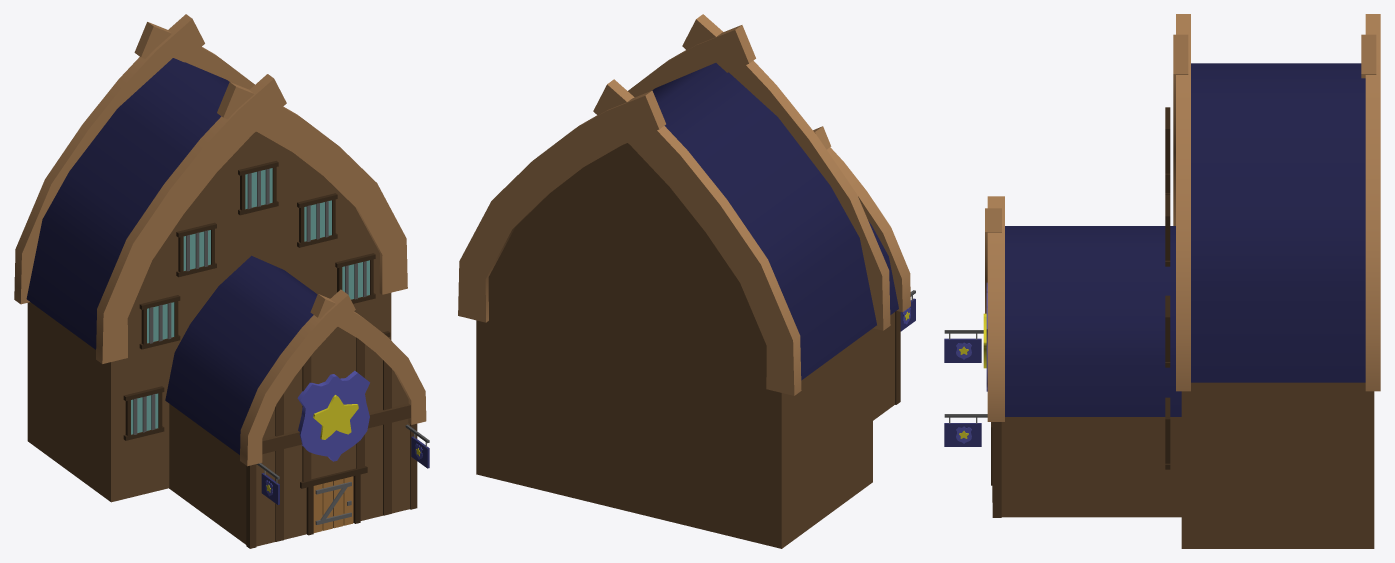
The model's file is Politie_Bureau.fbx.
3 views of the same model, side by side, from view 1: azimuth 30°, elevation 25°; view 2: azimuth 150°, elevation 25°; view 3: azimuth 270°, elevation 25° (orthographic). The views are drawn at different scales.
Visible parts, largest first — view 1: PolitieBureau; view 2: PolitieBureau; view 3: PolitieBureau.
Boxes of the visible parts, bbox=[...] form: PolitieBureau: bbox=[14, 14, 429, 548]; PolitieBureau: bbox=[458, 14, 915, 548]; PolitieBureau: bbox=[944, 14, 1380, 548].
Bounding box in the file's own units: 4.77 × 5.77 × 5.1.
